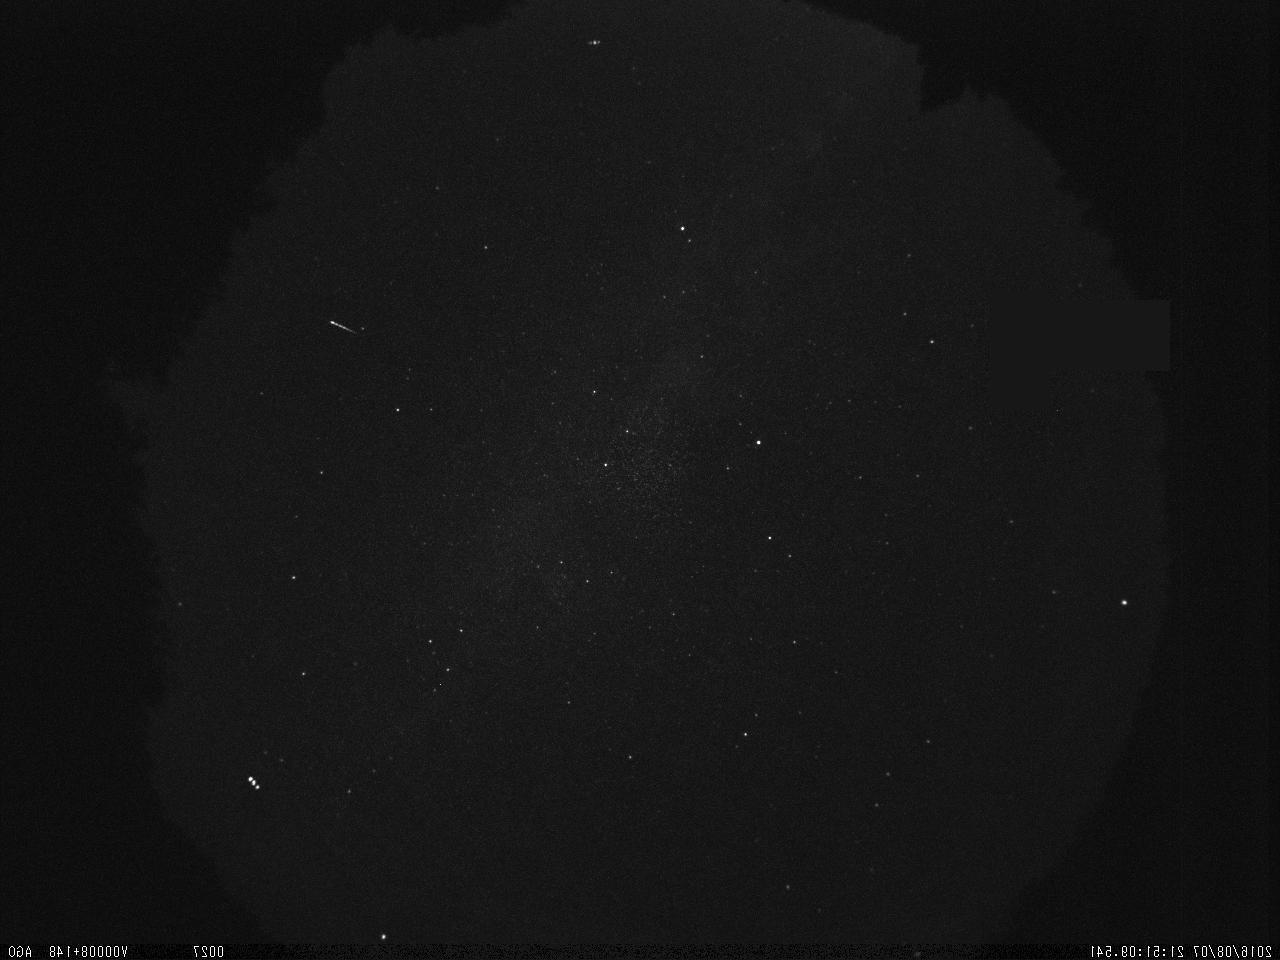meteor: (322, 312, 359, 341)
satelite: (245, 770, 263, 799), (580, 35, 607, 49)
